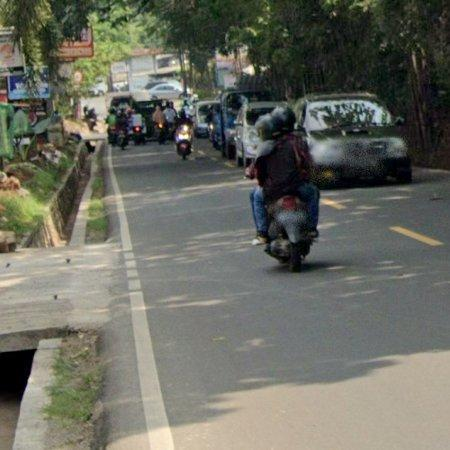motorcycles: (266, 196, 313, 273)
